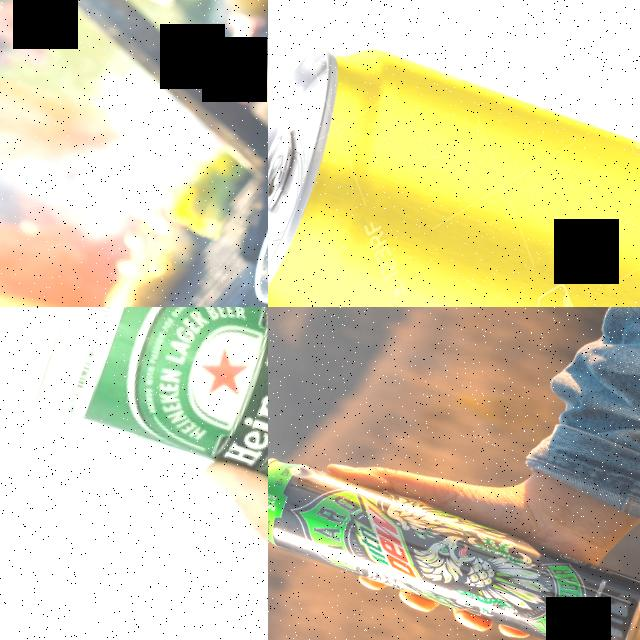can: (268, 14, 640, 307), (268, 446, 640, 640), (19, 307, 268, 548)
